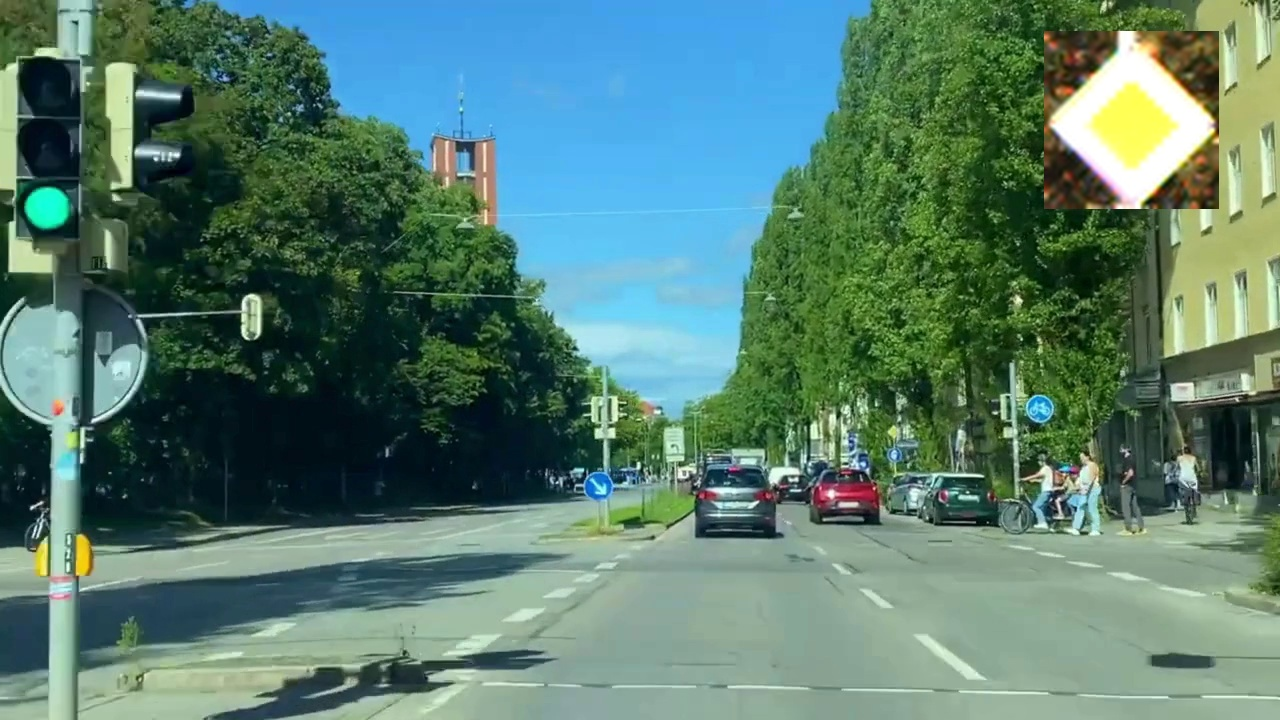Priority road: (1044, 31, 1219, 209)
